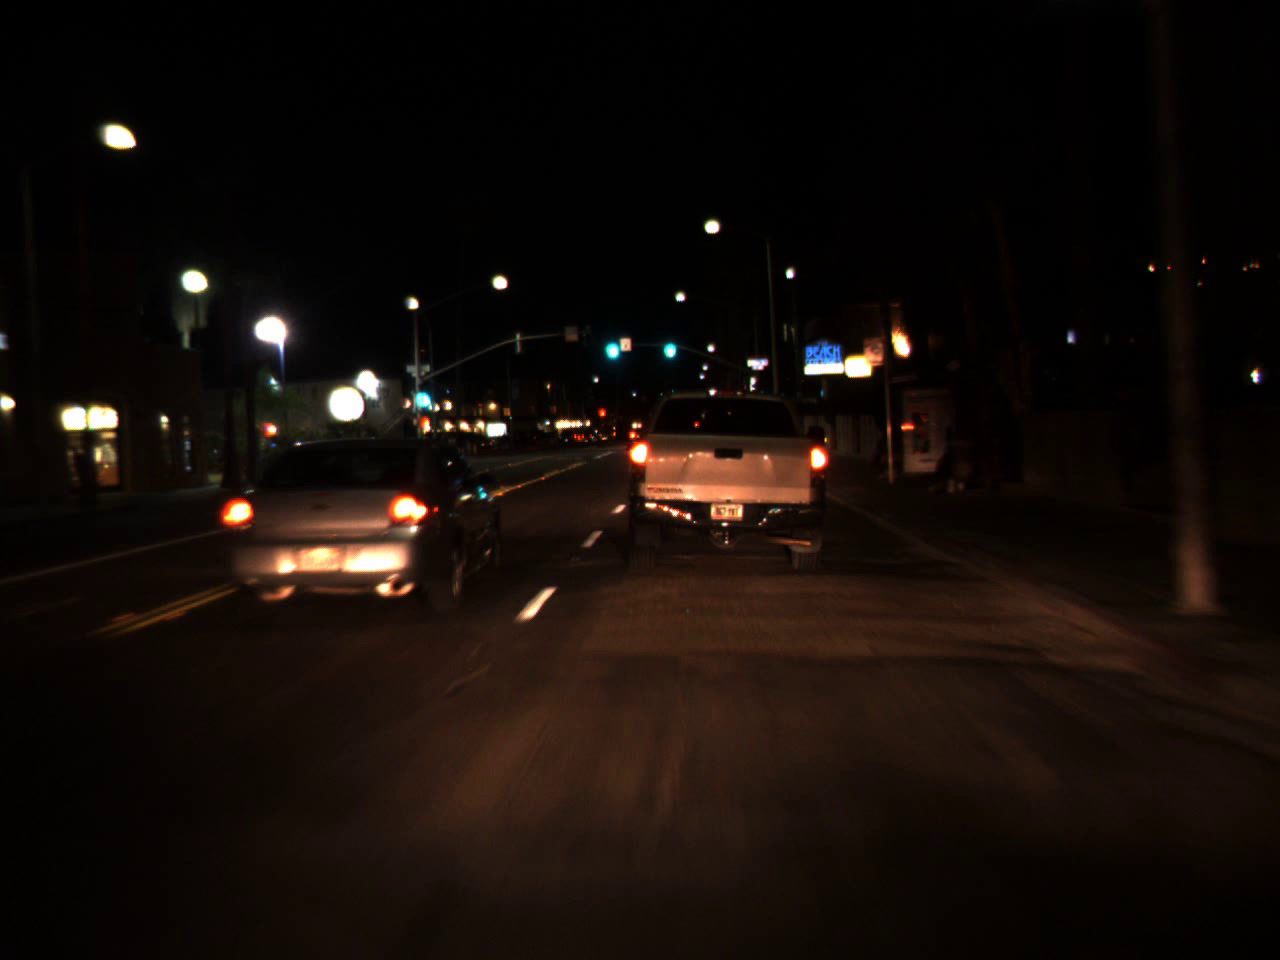go: (408, 369, 435, 417), (599, 323, 622, 365), (658, 324, 679, 363)
